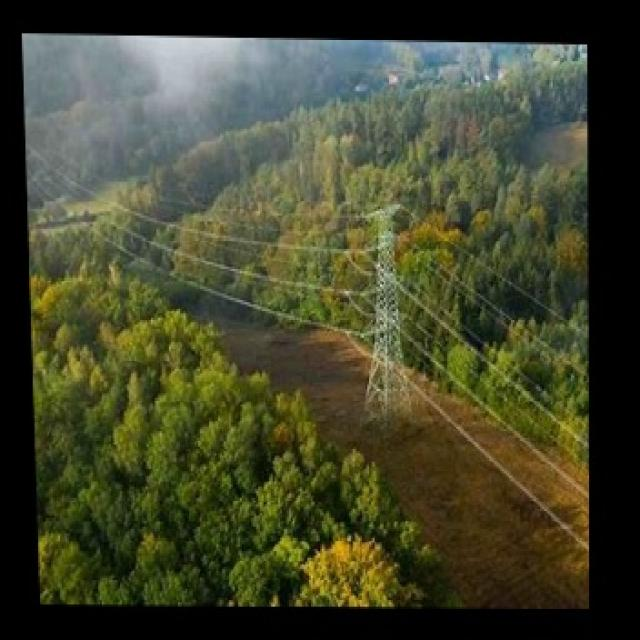utility poles: (345, 165, 434, 466)
